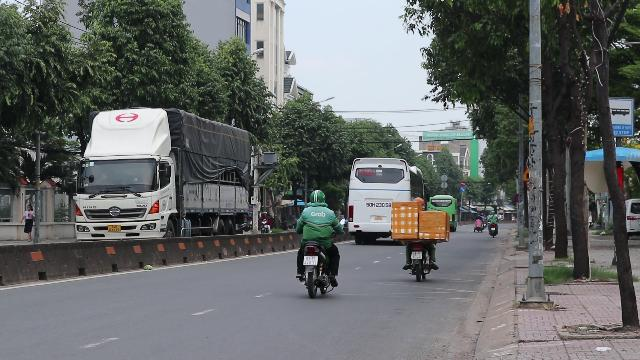helmet: (309, 188, 325, 204), (412, 197, 423, 207)
licenseplate: (303, 256, 317, 266), (411, 252, 422, 258)
motorcyclist: (386, 196, 454, 282), (292, 188, 342, 298)
